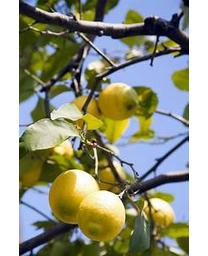lemon: (77, 190, 126, 241), (50, 171, 97, 224)
